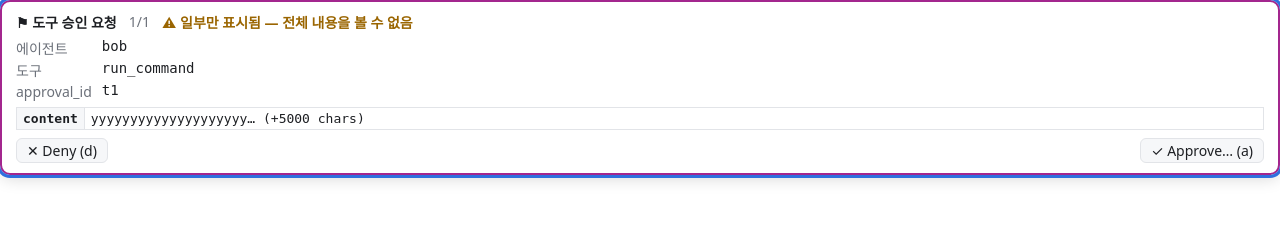
clipped values: header warns and 확정 needs an extra tick
Later steps or results of the test are not shown.
Click the button "✓ Approve… (a)" at (1202, 150), box [1140,138,1264,163]
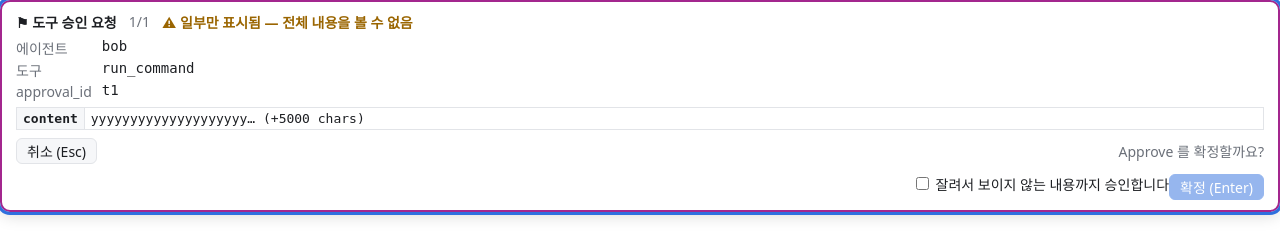
Now the button "확정 (Enter)" is shown
Click the button "확정 (Enter)" at (1216, 187), box [1169,174,1264,200]
Click the checkbox labelled "잘려서 보이지 않는 내용까지 승인합니다" at (922, 184), box [916,177,929,190]
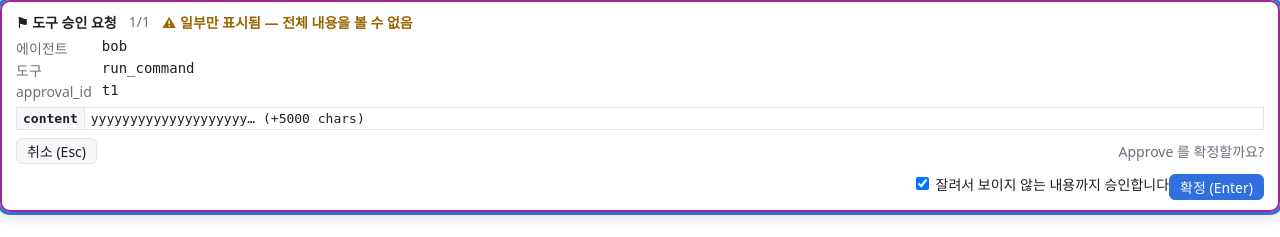
Now the button "확정 (Enter)" is shown, box [1169,174,1264,200]
